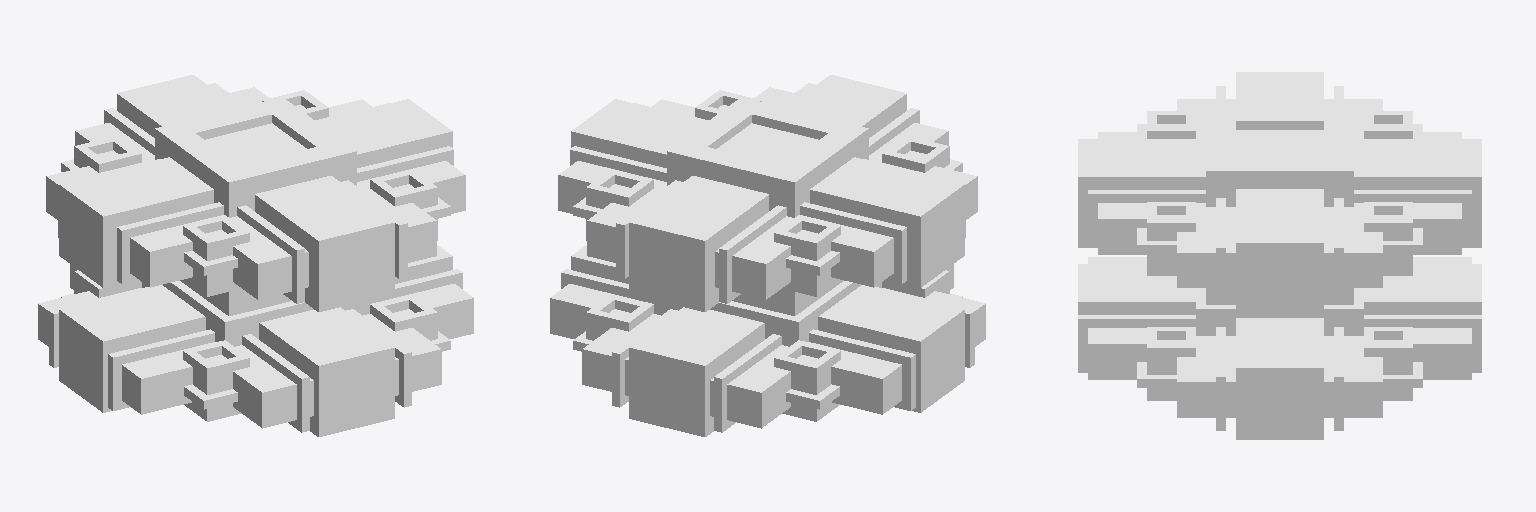
Rendered from EnemyHomingMine.obj.
The picture shows the model from 3 angles: view 1: azimuth 30°, elevation 25°; view 2: azimuth 150°, elevation 25°; view 3: azimuth 270°, elevation 25°; orthographic projection.
Size of the model in its own units: 41 by 26 by 41.